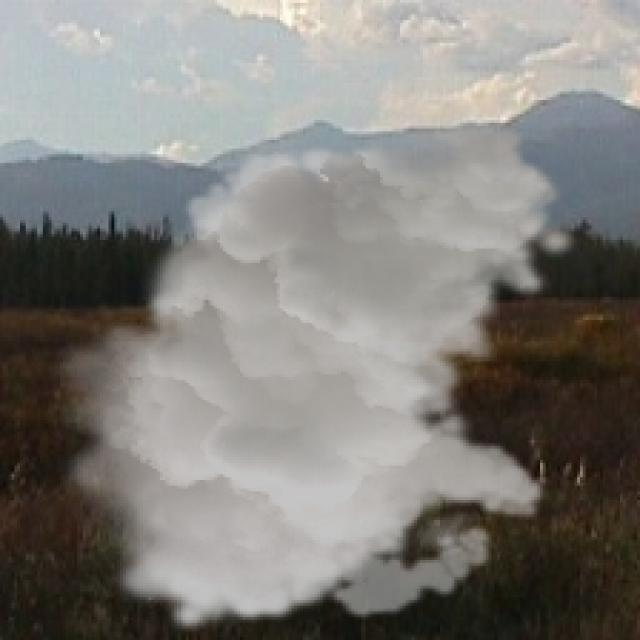smoke: (46, 120, 580, 634)
